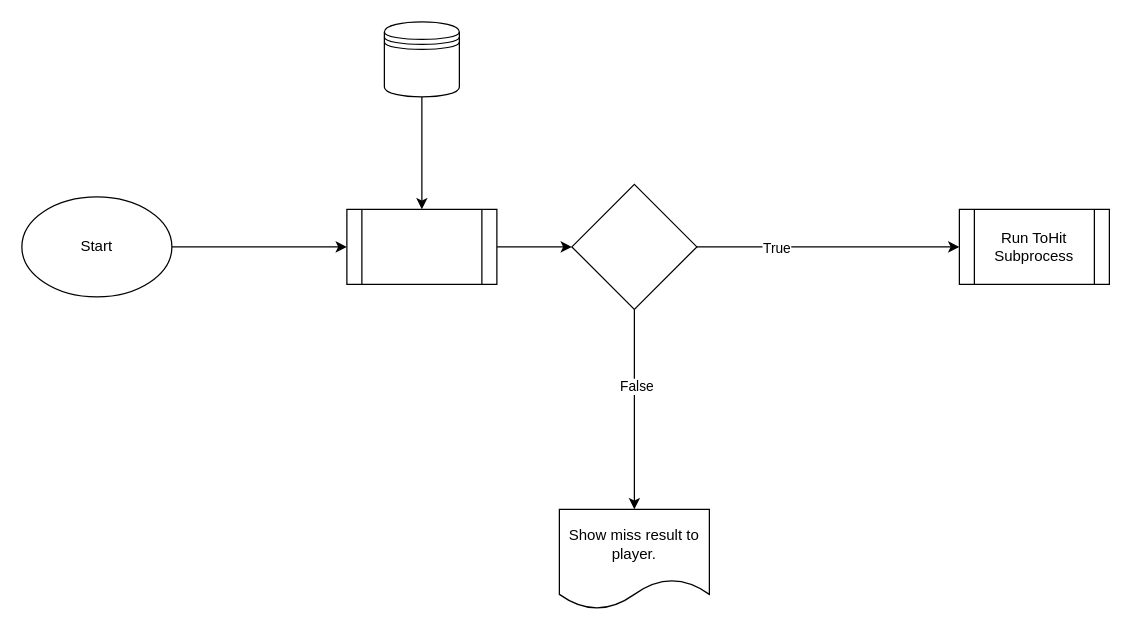
Some shapes in this 1131 by 631 pixel diagram are drawn without their labels. The shapes that lost their labels are listed below. From the top down, each one's centre as x and y in pixels, then its label:
At (x=421, y=246): "Determine Damage Type: Ex: Fire or Poison".
At (x=634, y=246): "IF: Type is valid".
